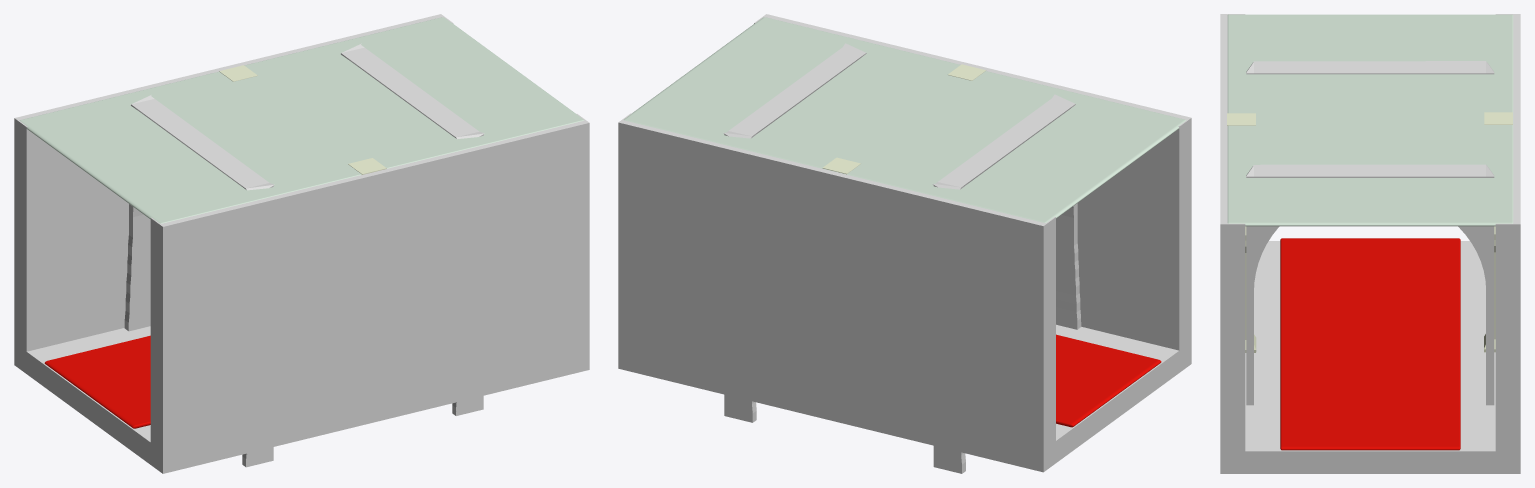
The picture shows the model from 3 angles, left to right: view 1: azimuth 30°, elevation 25°; view 2: azimuth 150°, elevation 25°; view 3: azimuth 270°, elevation 25°; orthographic projection.
Parts seen in each view (by area): view 1: 立方体, 天井, 立方体.006, 立方体.004, 立方体.001; view 2: 立方体, 天井, 立方体.006, 立方体.004, 立方体.001; view 3: 天井, 立方体.004, 立方体, 立方体.001, 立方体.006, 柱上.002, 柱上.001.
Boxes of the visible parts, left/top/right/bottom form: 立方体: left=14, top=14, right=589, bottom=473; 天井: left=19, top=17, right=583, bottom=223; 立方体.006: left=124, top=95, right=274, bottom=467; 立方体.004: left=44, top=335, right=150, bottom=428; 立方体.001: left=341, top=43, right=484, bottom=415; 立方体: left=618, top=14, right=1191, bottom=472; 天井: left=624, top=17, right=1186, bottom=222; 立方体.006: left=932, top=94, right=1081, bottom=473; 立方体.004: left=1056, top=334, right=1161, bottom=427; 立方体.001: left=723, top=43, right=866, bottom=422; 天井: left=1227, top=14, right=1513, bottom=226; 立方体.004: left=1280, top=238, right=1460, bottom=450; 立方体: left=1220, top=14, right=1520, bottom=473; 立方体.001: left=1246, top=164, right=1494, bottom=405; 立方体.006: left=1246, top=61, right=1494, bottom=74; 柱上.002: left=1227, top=113, right=1256, bottom=352; 柱上.001: left=1484, top=112, right=1512, bottom=352.
Bounding box in the file's own units: 3977 × 2528 × 2400.
